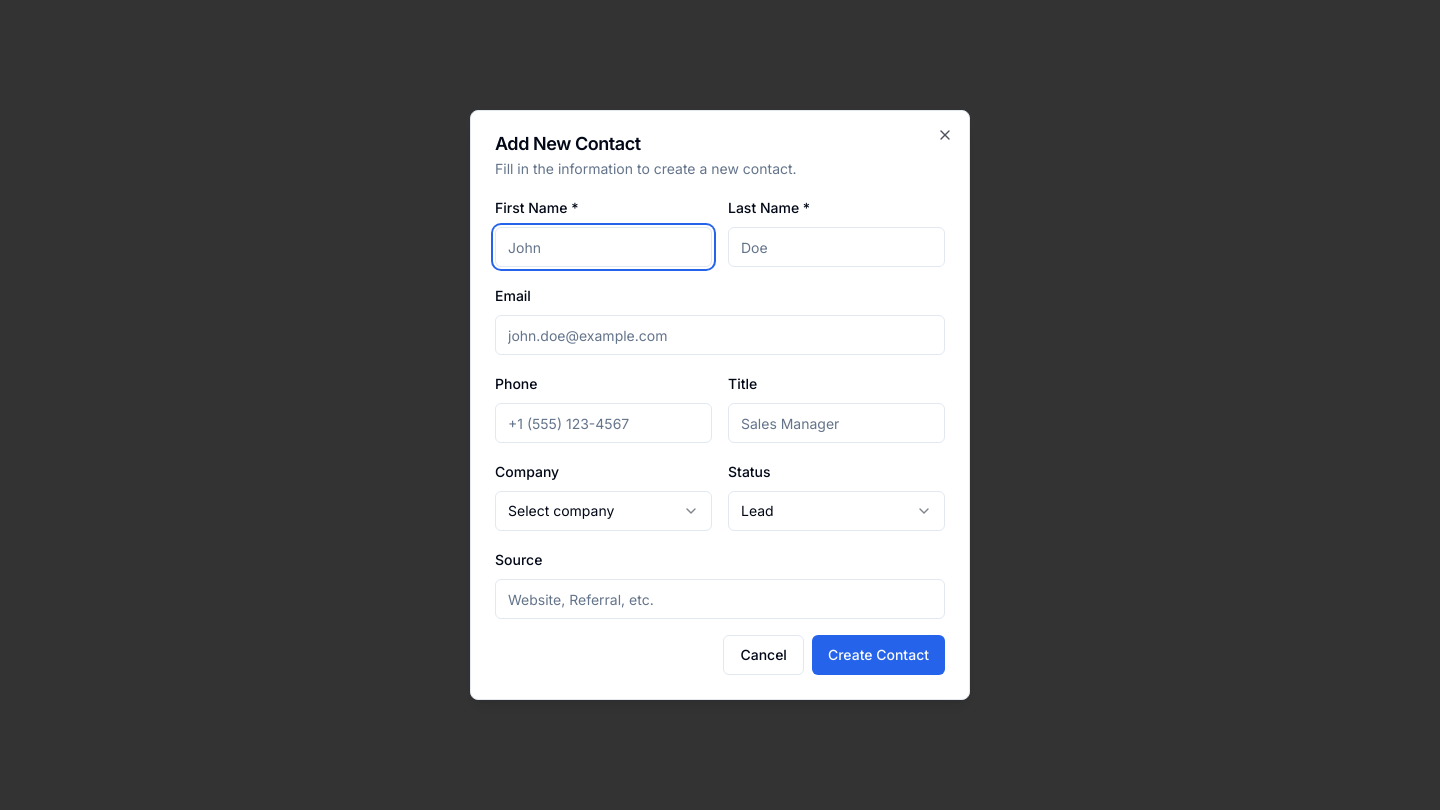
Test: ContactForm › Form Validation › should show error when first name is empty
Step 1. Click the button "Create Contact" → coordinates (878, 655), box top-left (812, 635), bottom-right (945, 675)
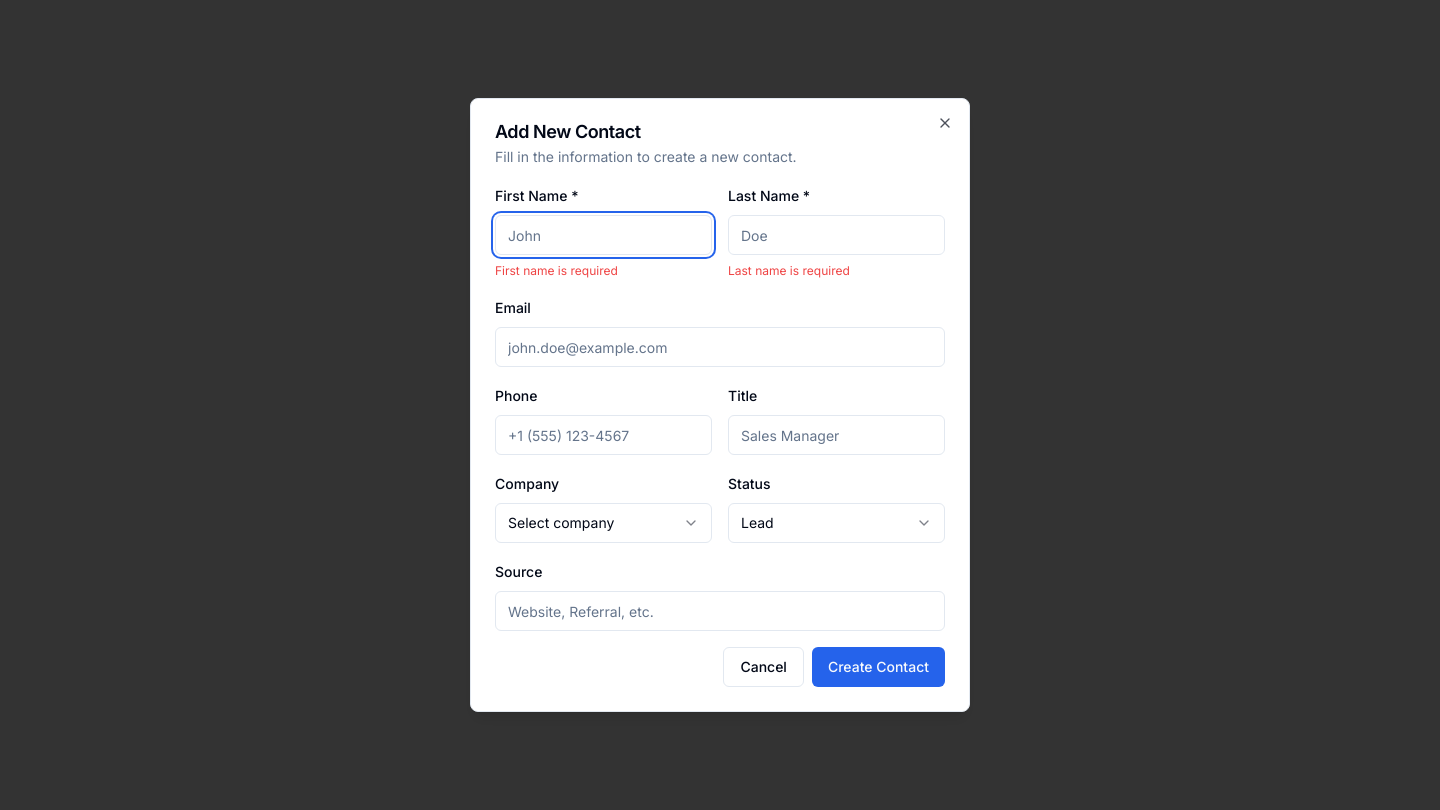
Expected: the text "First name is required" is shown, top-left (495, 263), bottom-right (618, 278)
